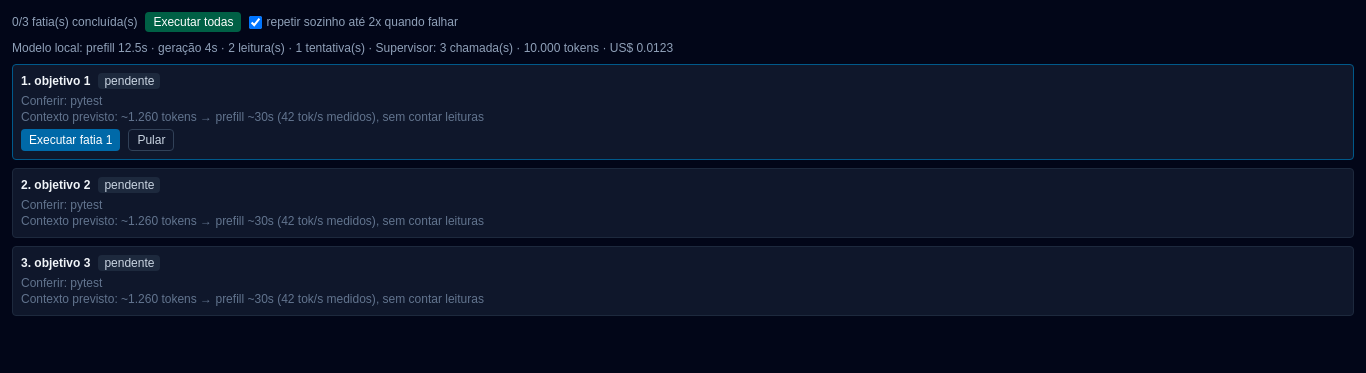
PainelExecucao › pular libera a próxima fatia
What coordinates should you click on to do the following:
click the button "Pular"
I would click on:
 (151, 140)
Its box is [128,129,174,151].
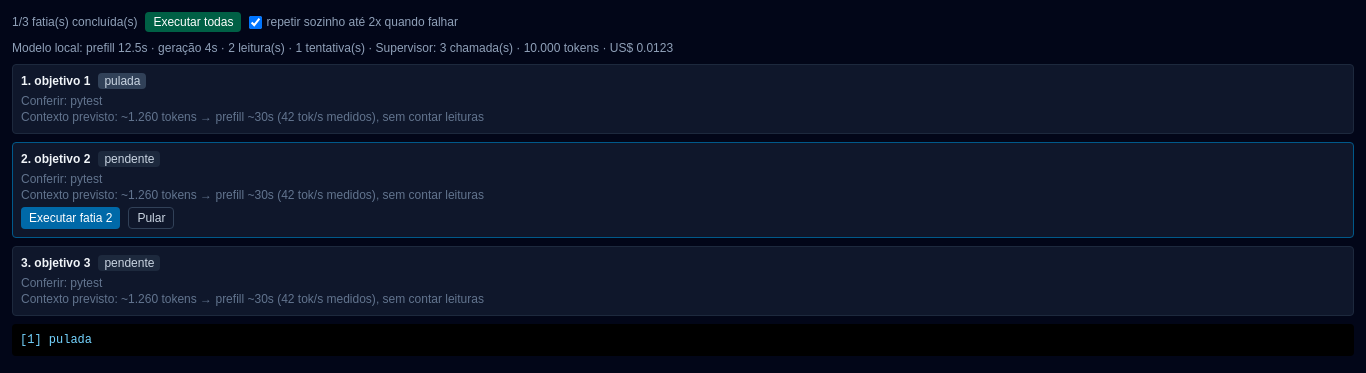
Now the button "Executar fatia 2" is shown, box [21,207,120,229]
